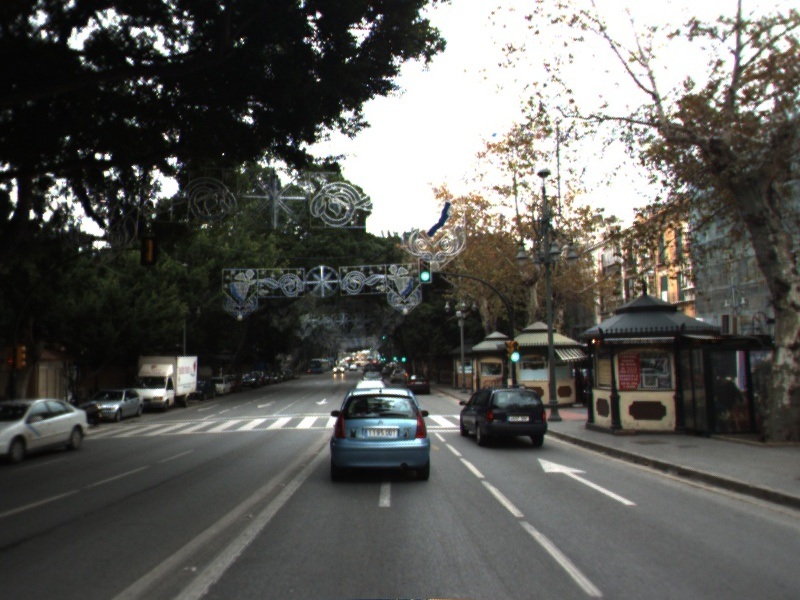STRAIGHT: (536, 456, 640, 507)
